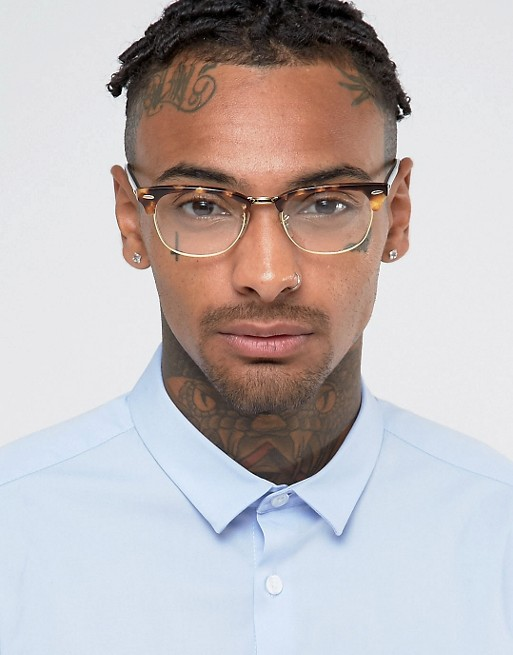llen: (281, 189, 372, 252)
rlen: (154, 191, 245, 255)
